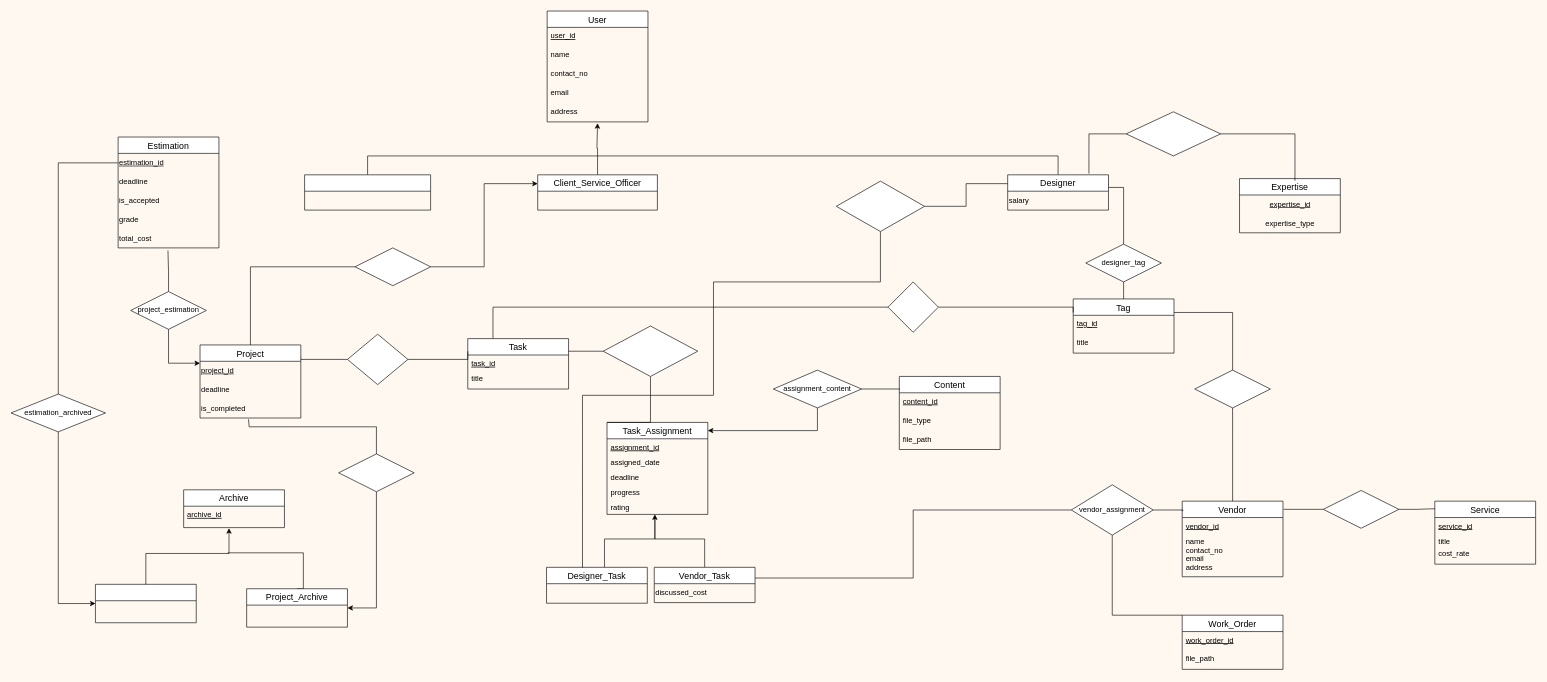
Image size: 1547x682. Some labels were removed from this diagram. Here are the shapes that lost their labels. From the top down, the box of each, then its label:
(1125, 111, 1221, 156): designer_expertise
(304, 174, 431, 210): Top_Management_Official
(836, 180, 925, 232): designer_assignment
(354, 247, 431, 286): project_officer
(887, 281, 938, 332): task_tag
(347, 334, 408, 385): project_task
(603, 325, 698, 376): task_assigned
(1194, 369, 1270, 408): vendor_tag
(338, 453, 414, 492): project_archived
(1323, 490, 1399, 528): vendor_service
(95, 584, 196, 623): Estimation_Archive
